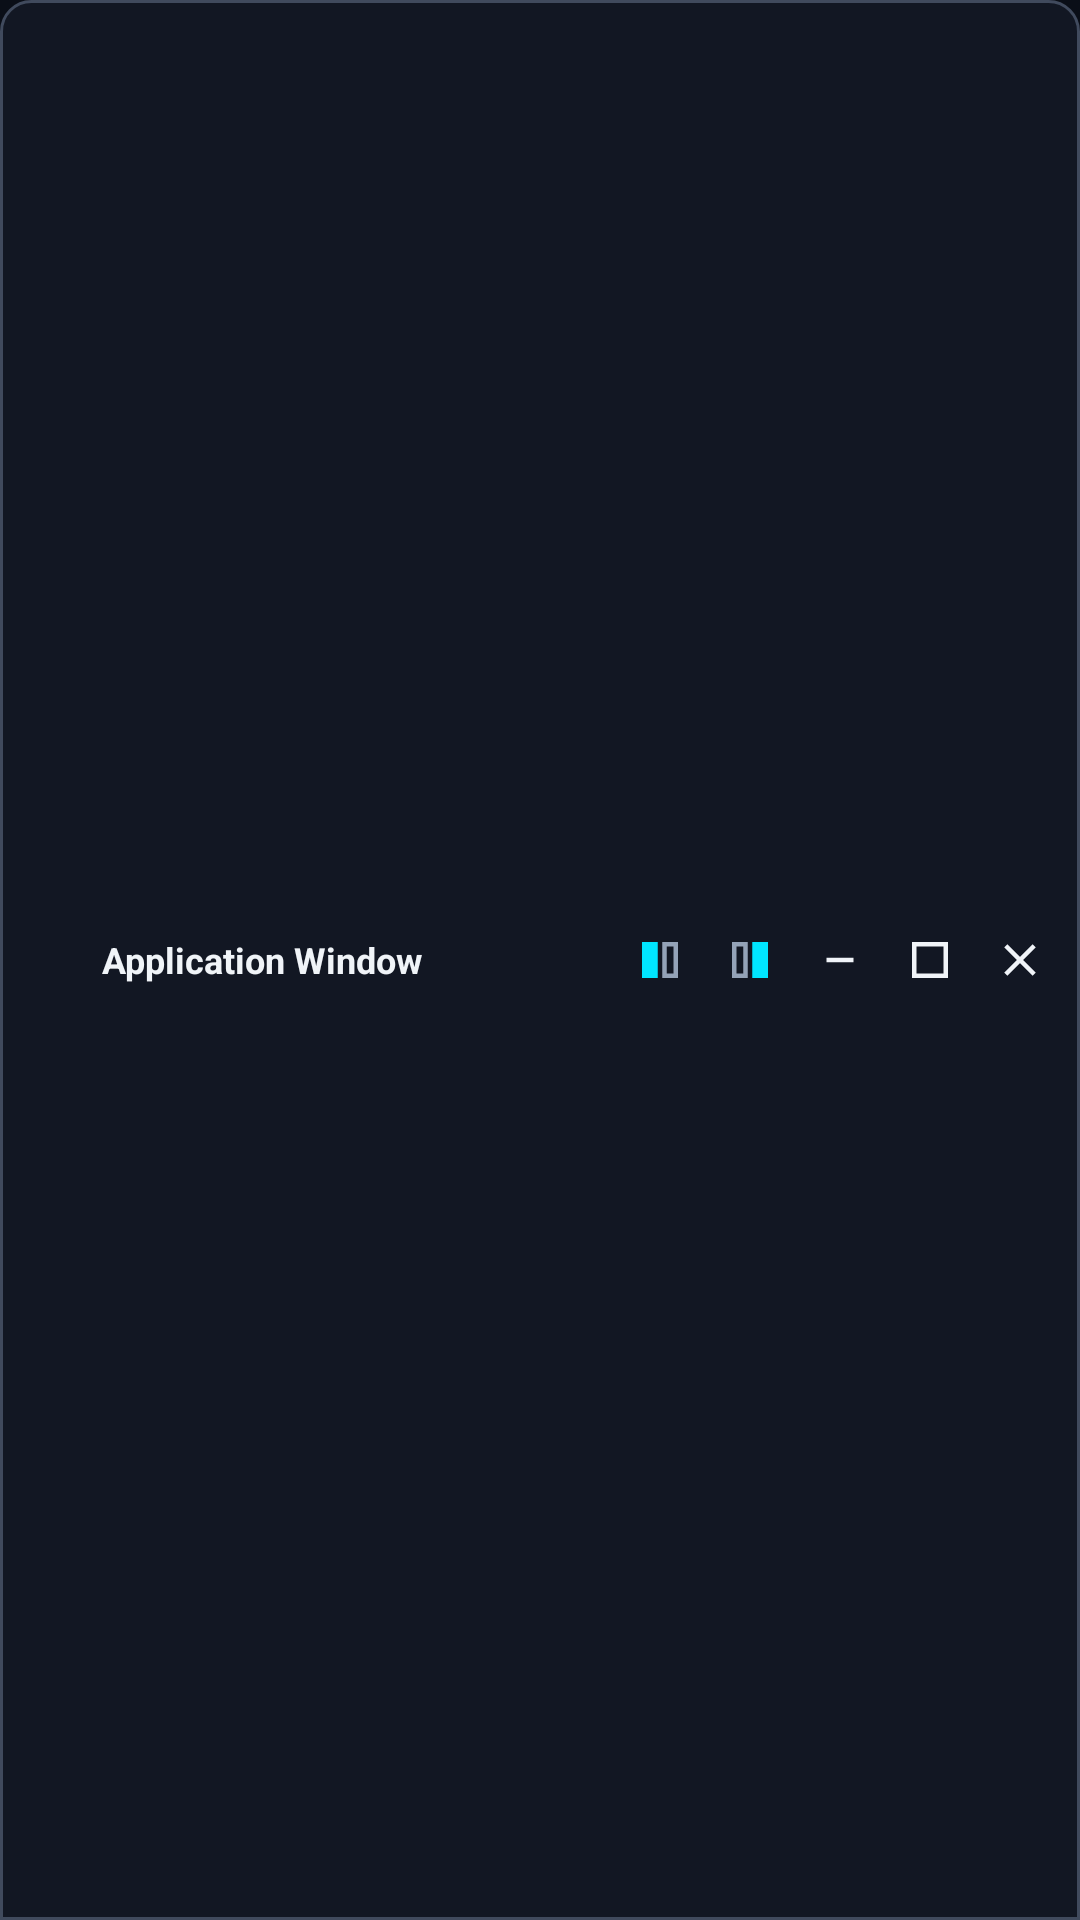

Icon bounding boxes for this 1080*1920 phone screenshot, format (left=x1, top=y1, right=x2, bottom=y2):
Close: (left=1004, top=944, right=1036, bottom=976)
Maximize: (left=912, top=942, right=948, bottom=978)
Minimize: (left=826, top=957, right=854, bottom=963)
Snap Left: (left=642, top=942, right=678, bottom=978)
Snap Right: (left=732, top=942, right=768, bottom=978)
